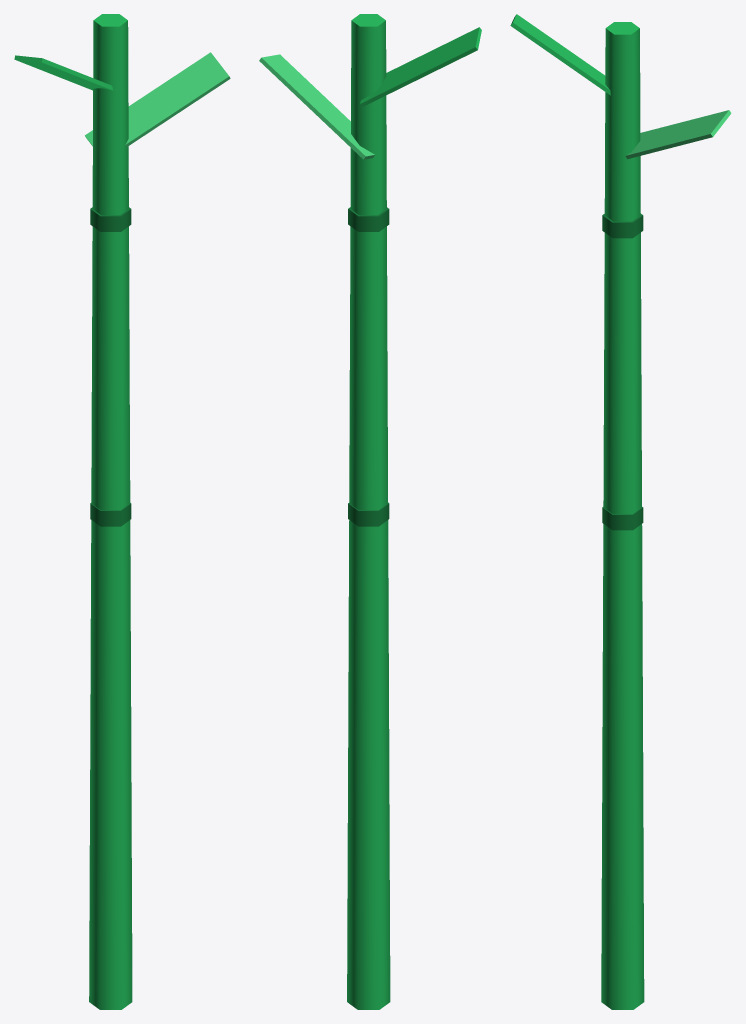
Rendered from bamboo_stalk.glb.
3 views of the same model, side by side, from view 1: azimuth 30°, elevation 25°; view 2: azimuth 150°, elevation 25°; view 3: azimuth 330°, elevation 25° (orthographic).
Visible parts, largest first — view 1: BambooStalk; view 2: BambooStalk; view 3: BambooStalk.
Part boxes in pixels (x1,y1,x2,y2): BambooStalk: (14, 14, 230, 1009); BambooStalk: (259, 14, 481, 1009); BambooStalk: (510, 14, 731, 1009).
Size of the model in its own units: 1.11 by 5 by 0.3418.
